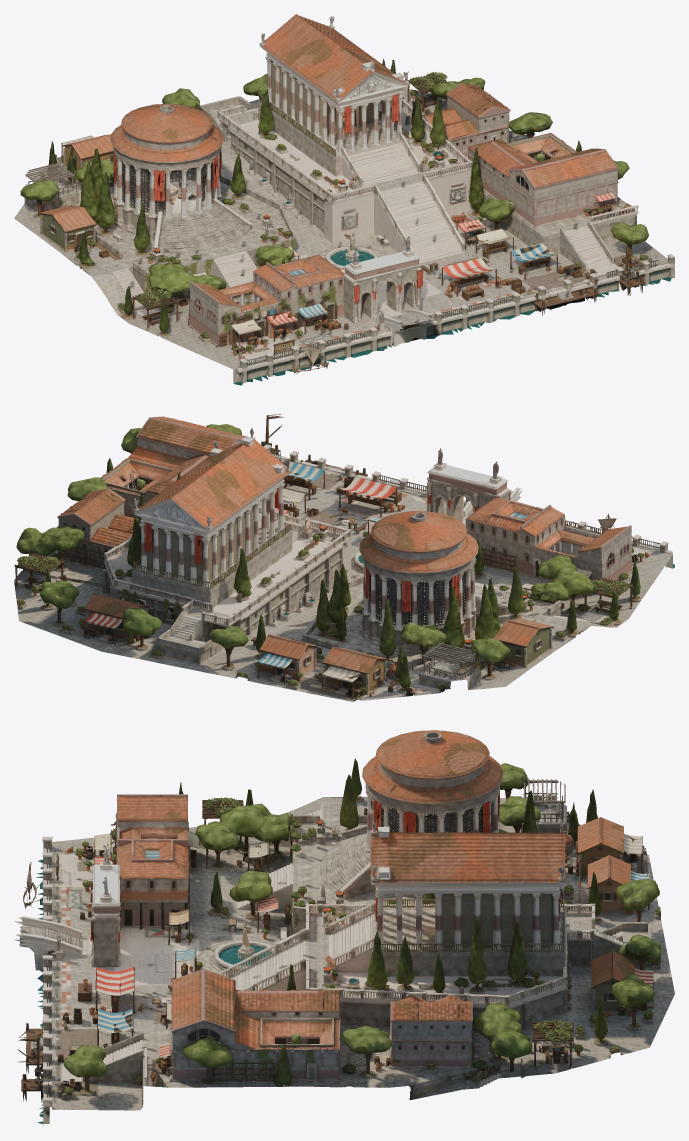
File: boario.glb
3 renders of one model, top to bottom at view 1: azimuth 30°, elevation 25°; view 2: azimuth 150°, elevation 25°; view 3: azimuth 270°, elevation 25°, orthographic. The views are drawn at different scales.
Parts seen in each view (by area): view 1: Main Mesh, Trees Only; view 2: Main Mesh, Trees Only; view 3: Main Mesh, Trees Only.
Boxes of the visible parts, <box> form: Main Mesh: <box>14,14,674,385</box>; Trees Only: <box>20,59,648,331</box>; Main Mesh: <box>14,414,674,701</box>; Trees Only: <box>16,424,640,688</box>; Main Mesh: <box>14,730,674,1125</box>; Trees Only: <box>64,758,661,1084</box>.
Size of the model in its own units: 0.9698 by 0.3103 by 0.9099.
Materials: 1 (1 with a texture image).
